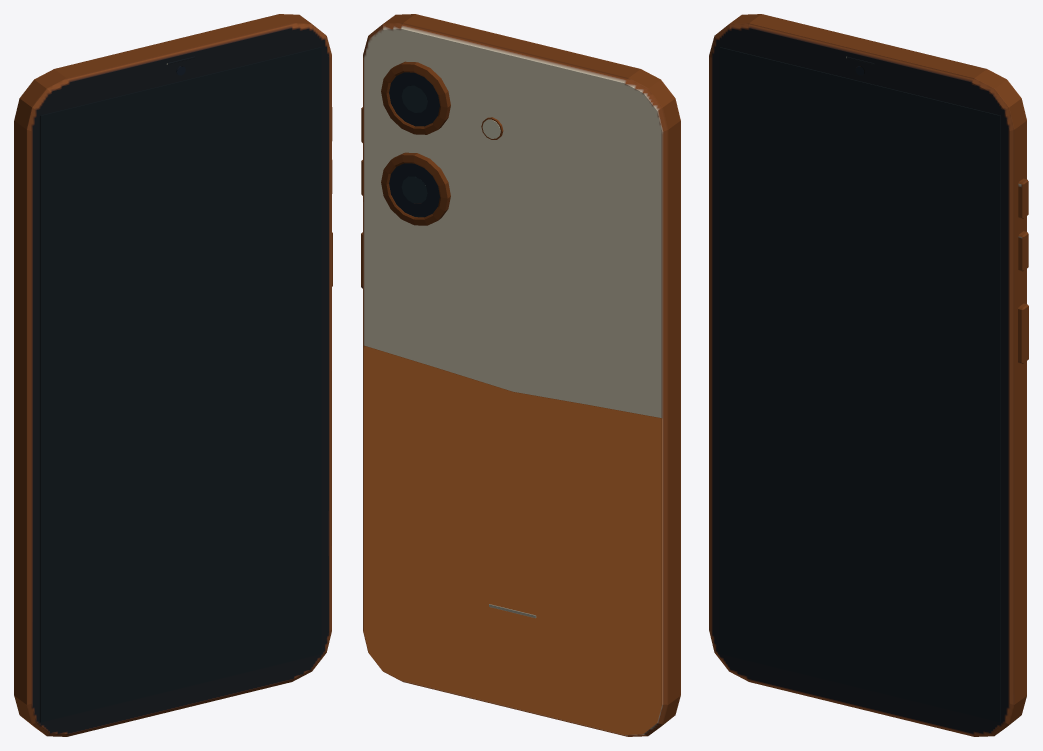
3 renders of one model, left to right at view 1: azimuth 30°, elevation 25°; view 2: azimuth 150°, elevation 25°; view 3: azimuth 330°, elevation 25°, orthographic.
Parts seen in each view (by area): view 1: phone_screen, Phone_Body; view 2: Phone_Body, Two_Tone_Rear, Camera_Rings, Camera_Lens_02, Camera_Lens_01, Lens_Core_02, Lens_Core_01; view 3: phone_screen, Phone_Body, Volume_Buttons, Power_Button.
Part boxes in pixels (box(x1,y1,x2,y2)): phone_screen: box(40, 47, 321, 722); Phone_Body: box(14, 14, 331, 736); Phone_Body: box(363, 14, 680, 736); Two_Tone_Rear: box(363, 345, 662, 734); Camera_Rings: box(381, 61, 450, 225); Camera_Lens_02: box(389, 163, 439, 217); Camera_Lens_01: box(389, 72, 439, 126); Lens_Core_02: box(401, 176, 427, 203); Lens_Core_01: box(401, 85, 427, 112); phone_screen: box(719, 47, 1000, 722); Phone_Body: box(709, 14, 1026, 736); Volume_Buttons: box(1018, 178, 1028, 271); Power_Button: box(1018, 303, 1028, 363).
Size of the model in its own units: 0.986 by 2 by 0.12.
11 materials, 10 textured.
